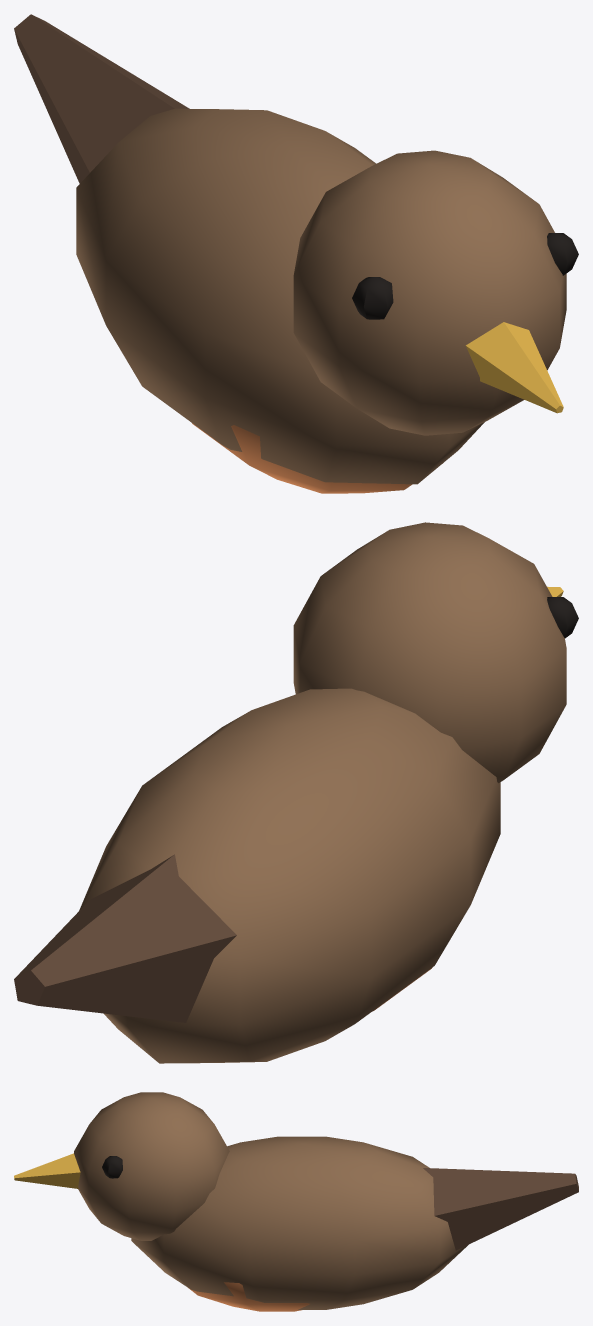
Rendered from Songbird_Body.fbx.
The picture shows the model from 3 angles, top to bottom: view 1: azimuth 30°, elevation 25°; view 2: azimuth 150°, elevation 25°; view 3: azimuth 270°, elevation 25°; orthographic projection. The views are drawn at different scales.
Parts seen in each view (by area): view 1: Songbird_Body_EXP; view 2: Songbird_Body_EXP; view 3: Songbird_Body_EXP.
Part boxes in pixels (x1=…): Songbird_Body_EXP: x1=14, y1=14, x2=578, y2=493; Songbird_Body_EXP: x1=14, y1=522, x2=578, y2=1063; Songbird_Body_EXP: x1=14, y1=1092, x2=578, y2=1311.
Bounding box in the file's own units: 0.0649 × 0.091 × 0.2258.
